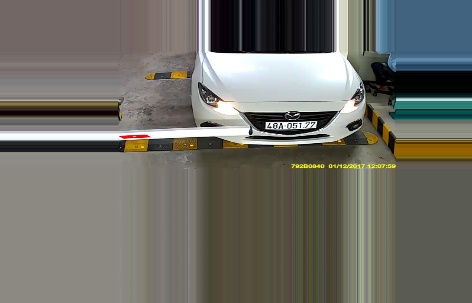plate: (263, 119, 317, 134)
